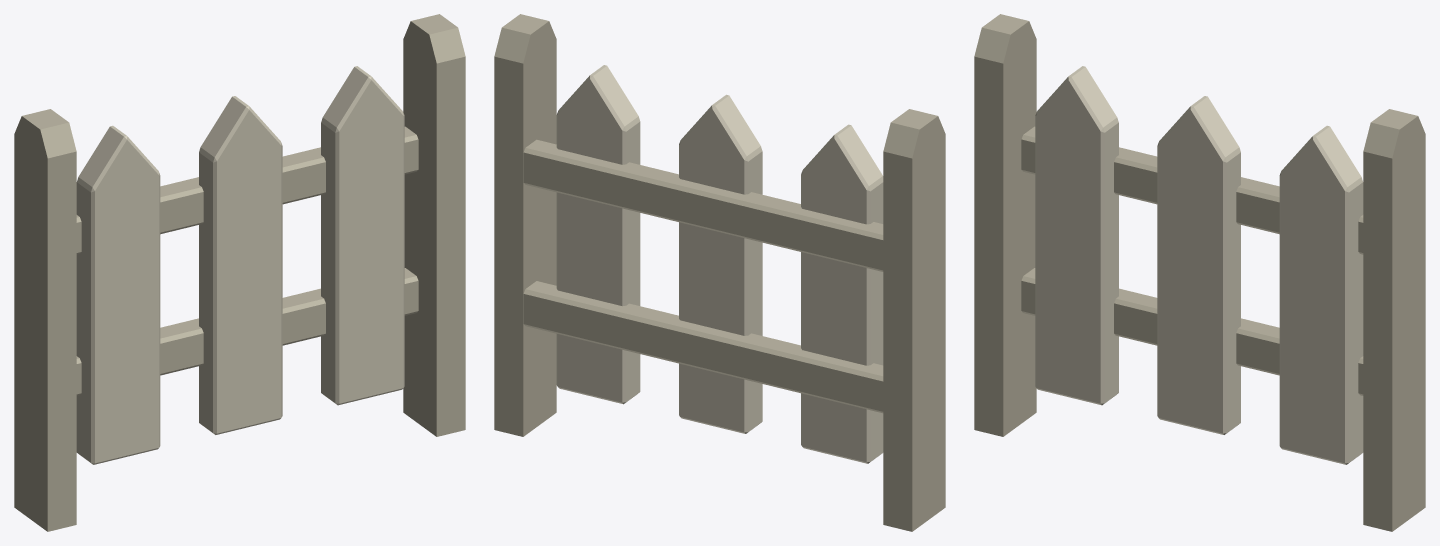
Rendered from deco_fence.glb.
3 renders of one model, left to right at view 1: azimuth 30°, elevation 25°; view 2: azimuth 150°, elevation 25°; view 3: azimuth 330°, elevation 25°, orthographic.
Parts seen in each view (by area): view 1: deco_fence; view 2: deco_fence; view 3: deco_fence.
Part boxes in pixels (bbox=[...]): deco_fence: bbox=[14, 14, 465, 531]; deco_fence: bbox=[494, 14, 945, 531]; deco_fence: bbox=[974, 14, 1425, 531].
Bounding box in the file's own units: 0.65 × 0.59 × 0.09.
